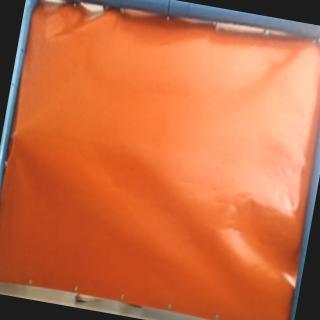Hit-hRxx: (3, 122, 26, 145)
